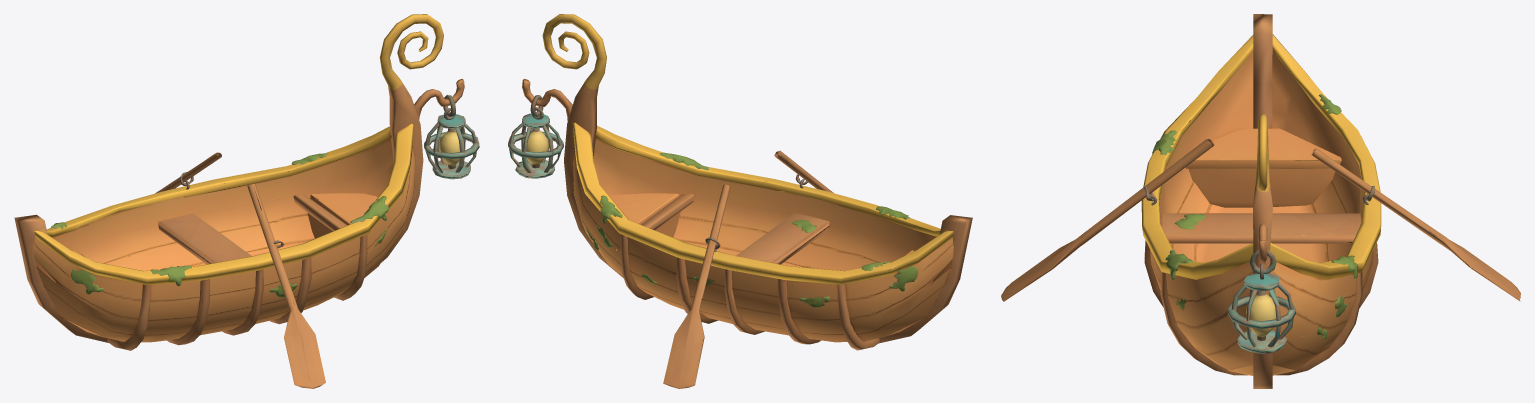
The model's file is barque_meshy.glb.
3 views of the same model, side by side, from view 1: azimuth 30°, elevation 25°; view 2: azimuth 150°, elevation 25°; view 3: azimuth 270°, elevation 25° (orthographic). The views are drawn at different scales.
Visible parts, largest first — view 1: geometry_0; view 2: geometry_0; view 3: geometry_0.
Part boxes in pixels (x1,y1,x2,y2): geometry_0: [14, 14, 479, 388]; geometry_0: [508, 14, 972, 388]; geometry_0: [1001, 14, 1520, 388].
Bounding box in the file's own units: 0.957 × 0.519 × 0.7627.
Materials: 1 (1 with a texture image).
